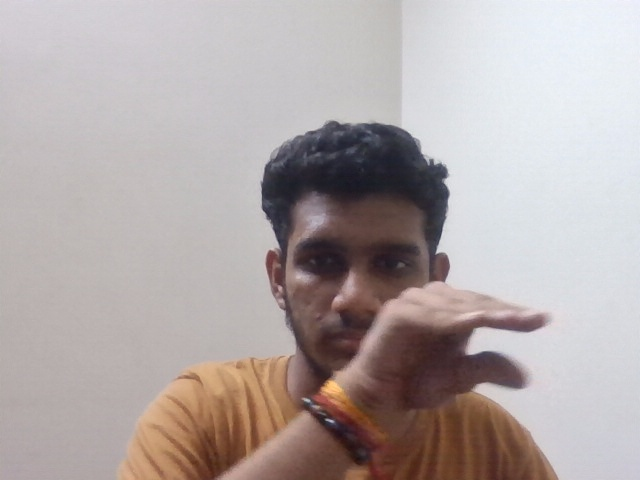no: (334, 273, 559, 409)
